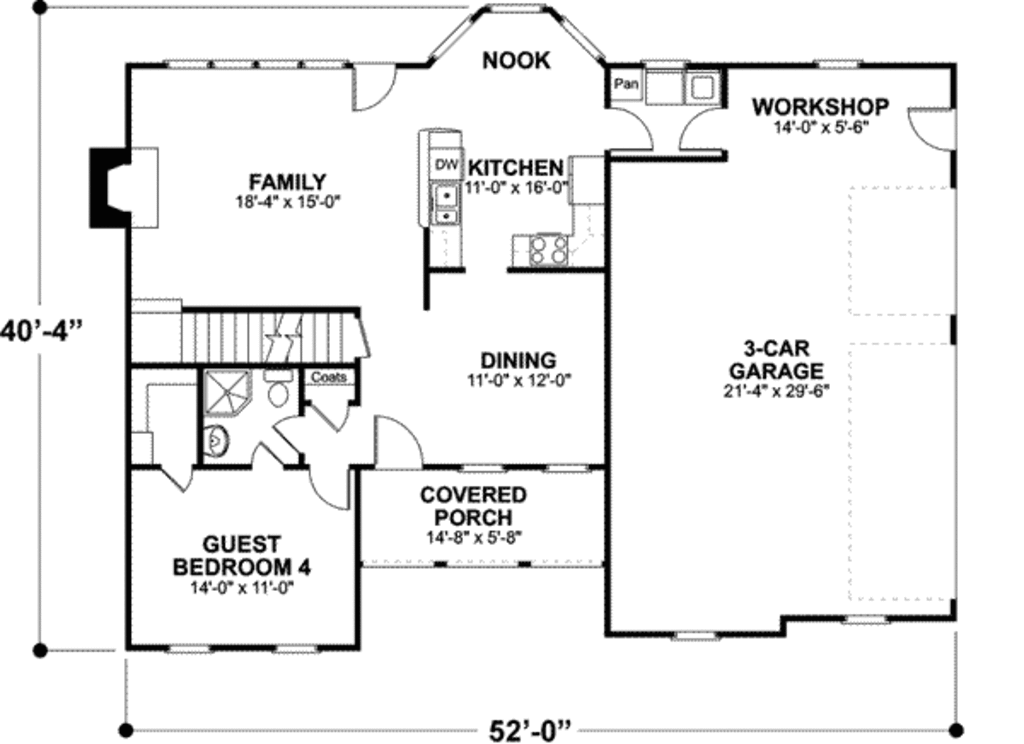door: (364, 412, 424, 471), (605, 103, 658, 157), (904, 102, 958, 155), (349, 58, 398, 115), (673, 107, 730, 153), (304, 463, 353, 516), (267, 412, 309, 460), (310, 399, 354, 433), (158, 464, 196, 497)
kitchen_bar: (413, 122, 466, 229)
large_sink: (255, 366, 298, 409)
small_sink: (198, 421, 233, 459)
stairs: (132, 293, 369, 371)
windows: (158, 58, 346, 72), (155, 640, 214, 658), (264, 641, 322, 659), (662, 627, 717, 644), (816, 54, 864, 73), (458, 463, 507, 478), (537, 462, 592, 475), (844, 613, 890, 625)
